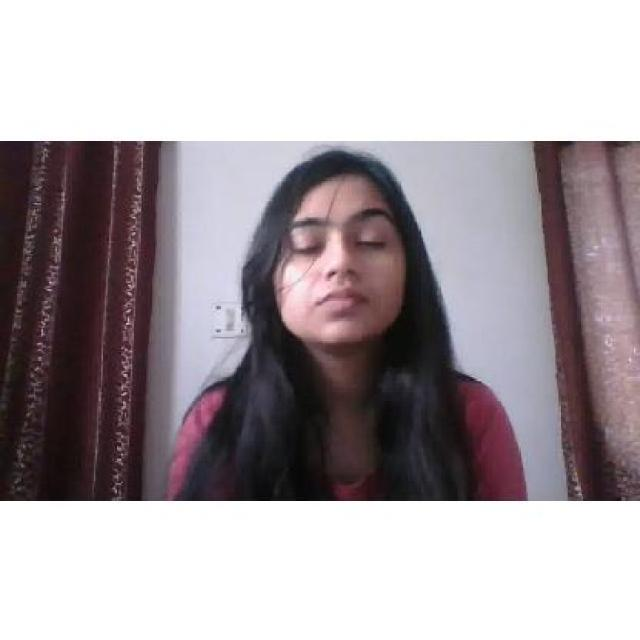inattentif: (272, 150, 408, 344)
